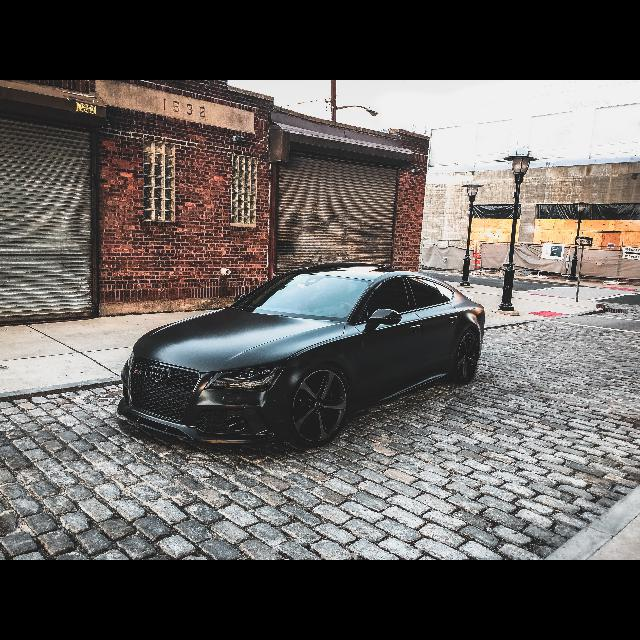cars: (113, 252, 495, 466)
